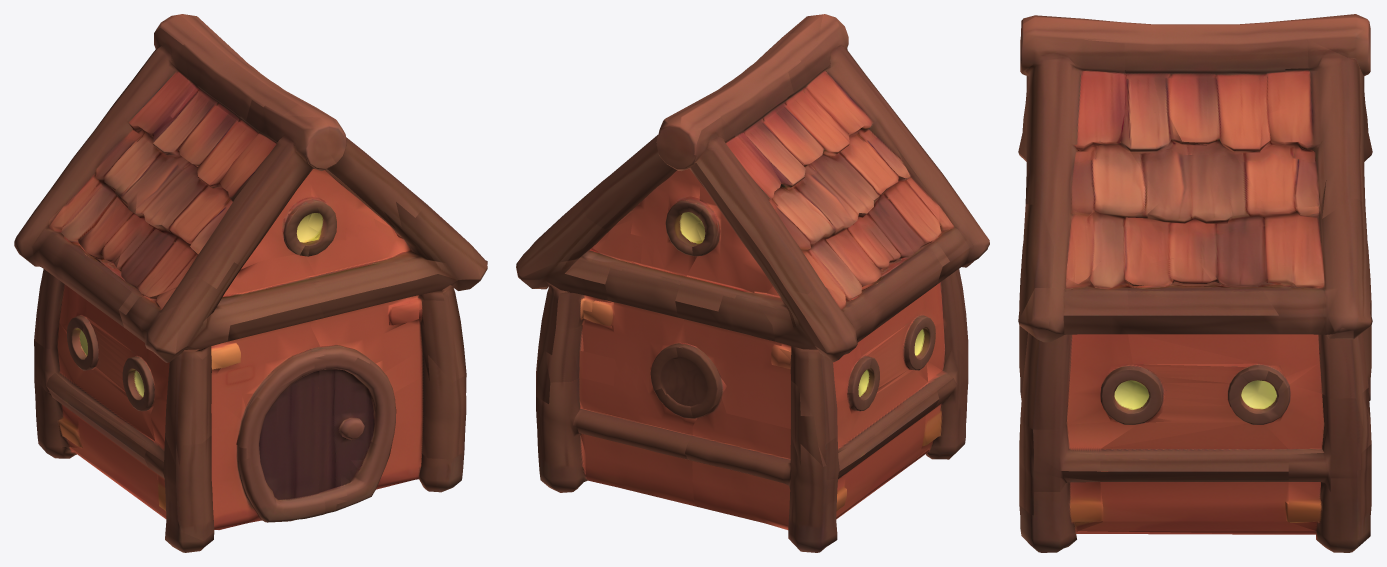
The model's file is station-henhouse.glb.
The picture shows the model from 3 angles, left to right: view 1: azimuth 30°, elevation 25°; view 2: azimuth 150°, elevation 25°; view 3: azimuth 270°, elevation 25°; orthographic projection. The views are drawn at different scales.
Bounding box in the file's own units: 1.64 × 1.89 × 1.32.
1 material, 1 textured.
